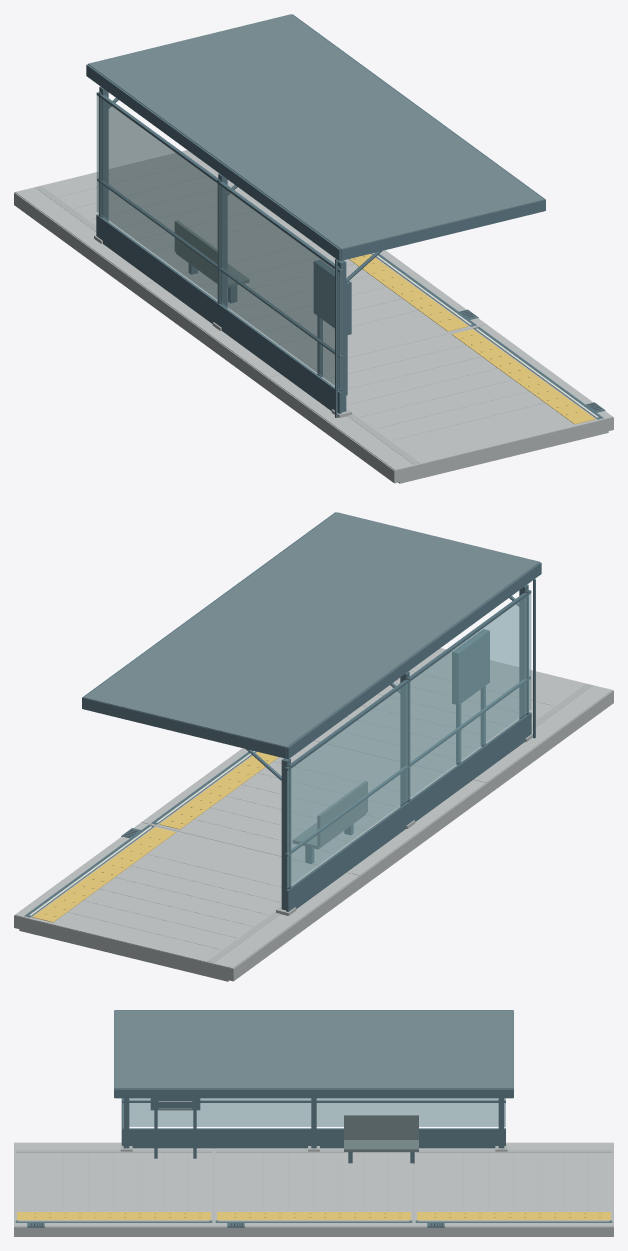
The picture shows the model from 3 angles, top to bottom: view 1: azimuth 30°, elevation 25°; view 2: azimuth 150°, elevation 25°; view 3: azimuth 270°, elevation 25°; orthographic projection. The views are drawn at different scales.
Parts seen in each view (by area): view 1: SHELTER_8M__VIS_Roof_Sandwich_Panel, SHELTER_8M__VIS_Windbreak_Glass, BAY3__VIS_Paving_Finish, BAY1__VIS_Paving_Finish, BAY2__VIS_Paving_Finish, SHELTER_8M__VIS_Windbreak_Lower_Impact_Panel, SHELTER_8M__VIS_Roof_West_Fascia, BAY3__VIS_Reinforced_Slab, BAY3__VIS_Tactile_Warning, SHELTER_8M__VIS_Roof_South_Fascia, BAY2__VIS_Tactile_Warning, BAY3__VIS_West_Curb_Core (+15 smaller); view 2: SHELTER_8M__VIS_Roof_Sandwich_Panel, SHELTER_8M__VIS_Windbreak_Glass, BAY1__VIS_Paving_Finish, BAY2__VIS_Paving_Finish, BAY3__VIS_Paving_Finish, SHELTER_8M__VIS_Windbreak_Lower_Impact_Panel, SHELTER_8M__VIS_Roof_West_Fascia, BAY1__VIS_Reinforced_Slab, BAY1__VIS_Tactile_Warning, SHELTER_8M__VIS_Roof_North_Fascia, TIMETABLE__VIS_Timetable_Frame, BAY2__VIS_Tactile_Warning (+15 smaller); view 3: SHELTER_8M__VIS_Roof_Sandwich_Panel, BAY1__VIS_Paving_Finish, BAY3__VIS_Paving_Finish, BAY2__VIS_Paving_Finish, SHELTER_8M__VIS_Windbreak_Glass, SHELTER_8M__VIS_Windbreak_Lower_Impact_Panel, SHELTER_8M__VIS_Roof_East_Fascia, BAY1__VIS_East_Curb_Core, BAY2__VIS_East_Curb_Core, BAY3__VIS_East_Curb_Core, BENCH__VIS_Backrest, BAY1__VIS_Tactile_Warning (+22 smaller).
Boxes of the visible parts, x1=… form: SHELTER_8M__VIS_Roof_Sandwich_Panel: x1=88, y1=14, x2=544, y2=249; SHELTER_8M__VIS_Windbreak_Glass: x1=96, y1=95, x2=340, y2=389; BAY3__VIS_Paving_Finish: x1=278, y1=327, x2=607, y2=469; BAY1__VIS_Paving_Finish: x1=24, y1=150, x2=313, y2=283; BAY2__VIS_Paving_Finish: x1=151, y1=243, x2=480, y2=376; SHELTER_8M__VIS_Windbreak_Lower_Impact_Panel: x1=96, y1=214, x2=341, y2=413; SHELTER_8M__VIS_Roof_West_Fascia: x1=86, y1=64, x2=341, y2=261; BAY3__VIS_Reinforced_Slab: x1=398, y1=419, x2=608, y2=483; BAY3__VIS_Tactile_Warning: x1=451, y1=329, x2=595, y2=424; SHELTER_8M__VIS_Roof_South_Fascia: x1=341, y1=200, x2=544, y2=260; BAY2__VIS_Tactile_Warning: x1=349, y1=254, x2=468, y2=331; BAY3__VIS_West_Curb_Core: x1=267, y1=378, x2=404, y2=483; SHELTER_8M__VIS_Roof_Sandwich_Panel: x1=83, y1=512, x2=539, y2=747; SHELTER_8M__VIS_Windbreak_Glass: x1=287, y1=593, x2=531, y2=887; BAY1__VIS_Paving_Finish: x1=20, y1=825, x2=349, y2=967; BAY2__VIS_Paving_Finish: x1=147, y1=741, x2=476, y2=874; BAY3__VIS_Paving_Finish: x1=314, y1=648, x2=603, y2=781; SHELTER_8M__VIS_Windbreak_Lower_Impact_Panel: x1=286, y1=712, x2=531, y2=911; SHELTER_8M__VIS_Roof_West_Fascia: x1=286, y1=562, x2=541, y2=759; BAY1__VIS_Reinforced_Slab: x1=19, y1=917, x2=229, y2=981; BAY1__VIS_Tactile_Warning: x1=32, y1=827, x2=176, y2=922; SHELTER_8M__VIS_Roof_North_Fascia: x1=83, y1=698, x2=286, y2=758; TIMETABLE__VIS_Timetable_Frame: x1=452, y1=629, x2=489, y2=704; BAY2__VIS_Tactile_Warning: x1=159, y1=752, x2=278, y2=829; SHELTER_8M__VIS_Roof_Sandwich_Panel: x1=114, y1=1010, x2=513, y2=1088; BAY1__VIS_Paving_Finish: x1=414, y1=1146, x2=613, y2=1222; BAY3__VIS_Paving_Finish: x1=14, y1=1146, x2=213, y2=1222; BAY2__VIS_Paving_Finish: x1=214, y1=1148, x2=413, y2=1222; SHELTER_8M__VIS_Windbreak_Glass: x1=122, y1=1098, x2=505, y2=1126; SHELTER_8M__VIS_Windbreak_Lower_Impact_Panel: x1=122, y1=1128, x2=505, y2=1148; SHELTER_8M__VIS_Roof_East_Fascia: x1=114, y1=1089, x2=513, y2=1098; BAY1__VIS_East_Curb_Core: x1=414, y1=1223, x2=613, y2=1236; BAY2__VIS_East_Curb_Core: x1=214, y1=1223, x2=413, y2=1236; BAY3__VIS_East_Curb_Core: x1=14, y1=1223, x2=213, y2=1236; BENCH__VIS_Backrest: x1=344, y1=1115, x2=418, y2=1139; BAY1__VIS_Tactile_Warning: x1=417, y1=1212, x2=610, y2=1220.
Bounding box in the file's own units: 4 × 3.26 × 12.
